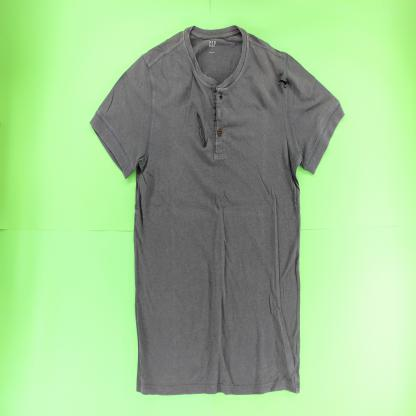hole: (194, 109, 209, 150), (277, 76, 289, 90)
